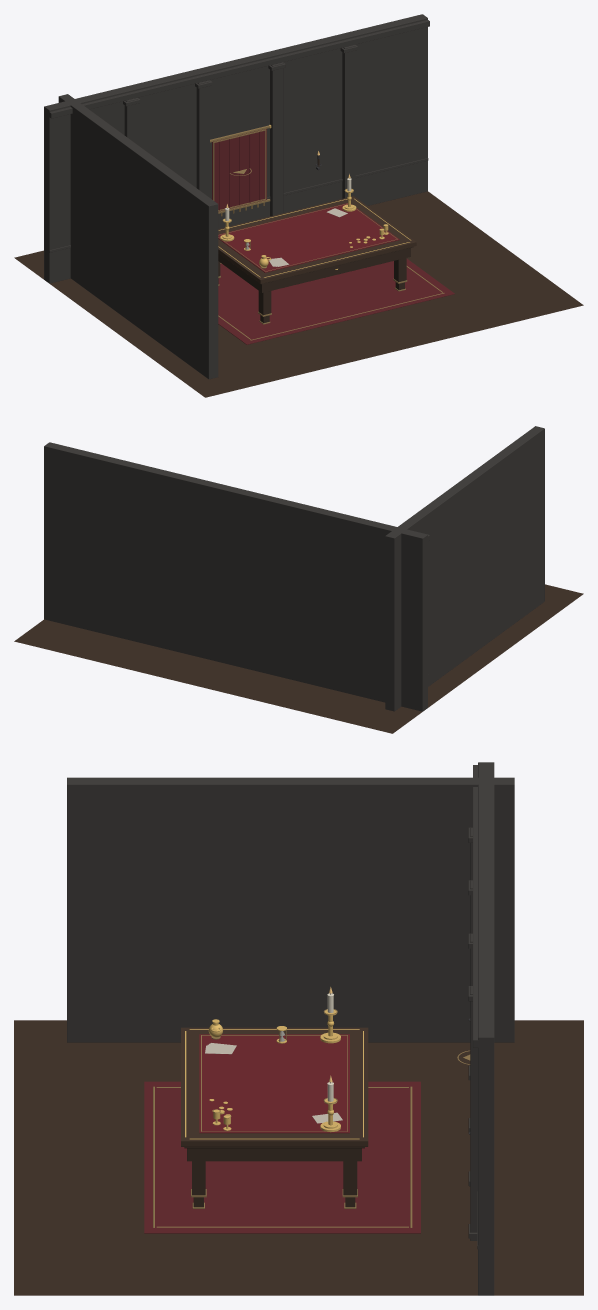
File: SceneModel.fbx
The picture shows the model from 3 angles, top to bottom: view 1: azimuth 30°, elevation 25°; view 2: azimuth 150°, elevation 25°; view 3: azimuth 270°, elevation 25°; orthographic projection. The views are drawn at different scales.
Visible parts, largest first — view 1: Walls, Floor, Carpet, Felt, Table, Tapestry; view 2: Walls, Floor; view 3: Walls, Floor, Carpet, Felt, Table.
Part boxes in pixels (left/top/right/bottom): Walls: left=44, top=14, right=429, bottom=379; Floor: left=14, top=191, right=583, bottom=397; Carpet: left=218, top=258, right=454, bottom=344; Felt: left=218, top=203, right=399, bottom=272; Table: left=218, top=196, right=416, bottom=324; Tapestry: left=210, top=125, right=271, bottom=216; Walls: left=44, top=426, right=544, bottom=711; Floor: left=14, top=584, right=583, bottom=733; Walls: left=67, top=762, right=514, bottom=1295; Floor: left=14, top=1020, right=583, bottom=1295; Carpet: left=144, top=1081, right=420, bottom=1233; Felt: left=199, top=1034, right=349, bottom=1133; Table: left=181, top=1027, right=368, bottom=1208.
Size of the model in its own units: 16 by 7 by 14.
